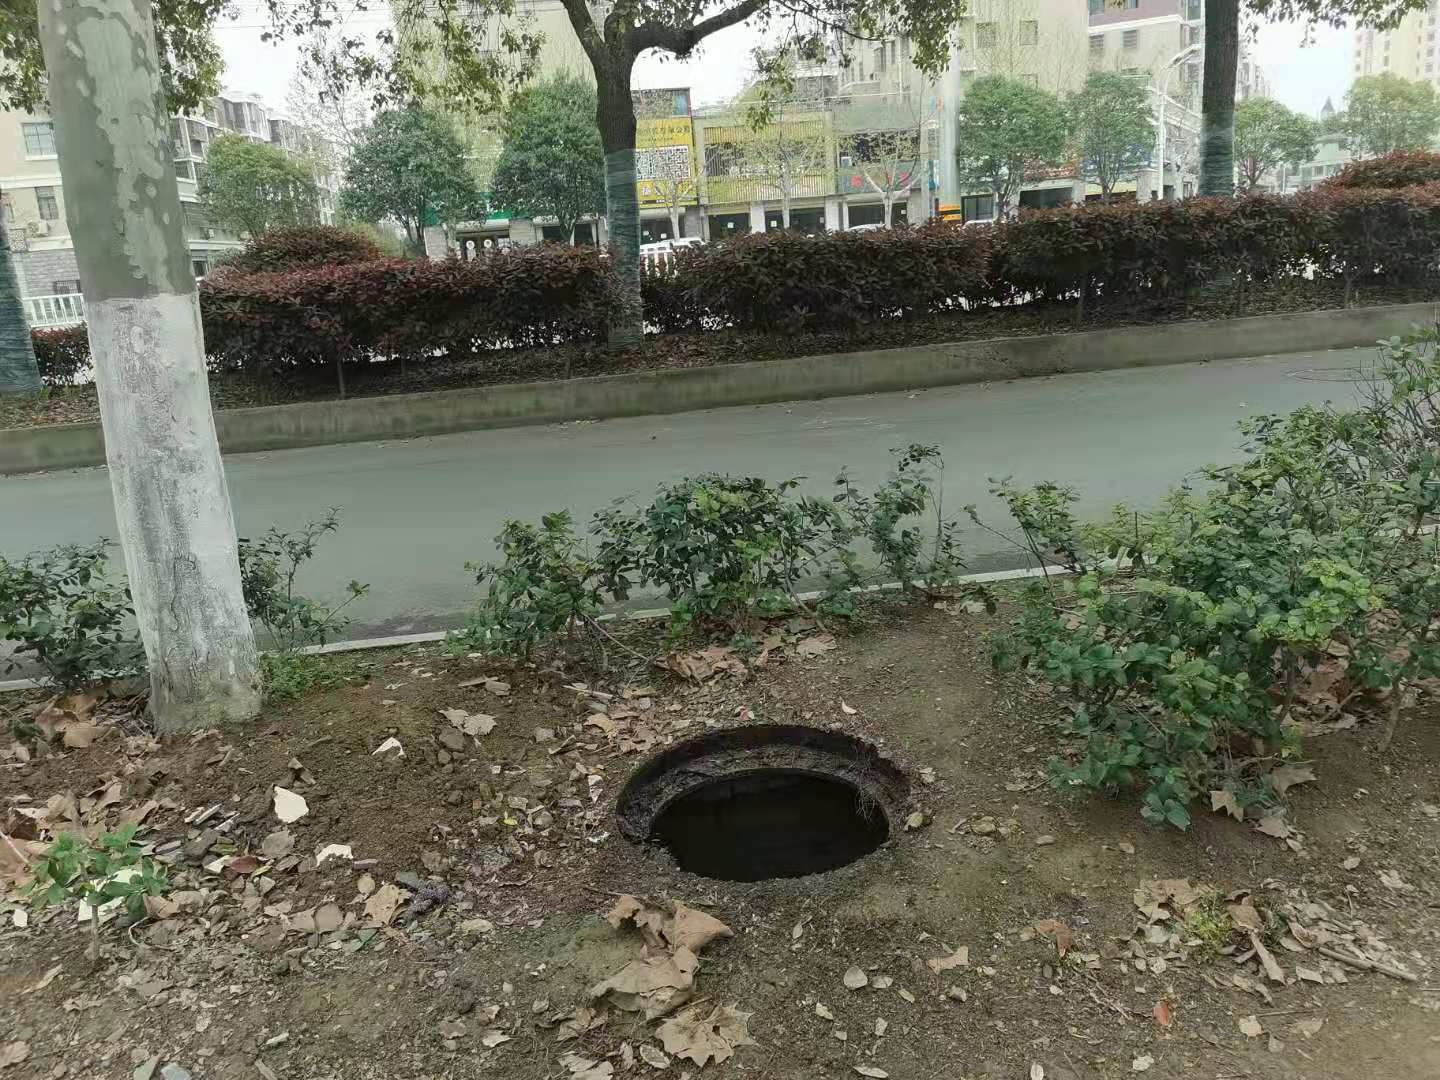lose: (608, 720, 913, 891)
